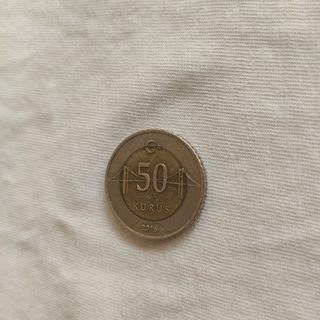50KURUS: (102, 126, 208, 242)
